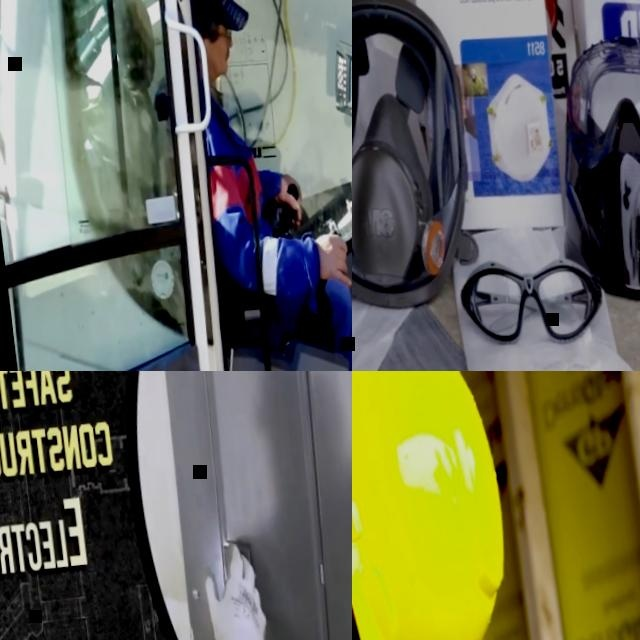Hardhat: (352, 371, 530, 640)
Mask: (352, 0, 487, 314), (547, 128, 640, 305)
NO-Hardhat: (184, 0, 231, 35)
NO-Mask: (206, 43, 231, 73)
Person: (179, 0, 352, 371), (352, 371, 537, 640), (196, 534, 288, 640)
Safety Vest: (201, 108, 282, 312)
machinery: (0, 0, 352, 371)
